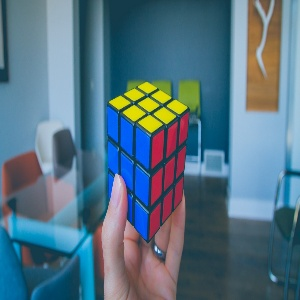cube: (106, 81, 190, 244)
